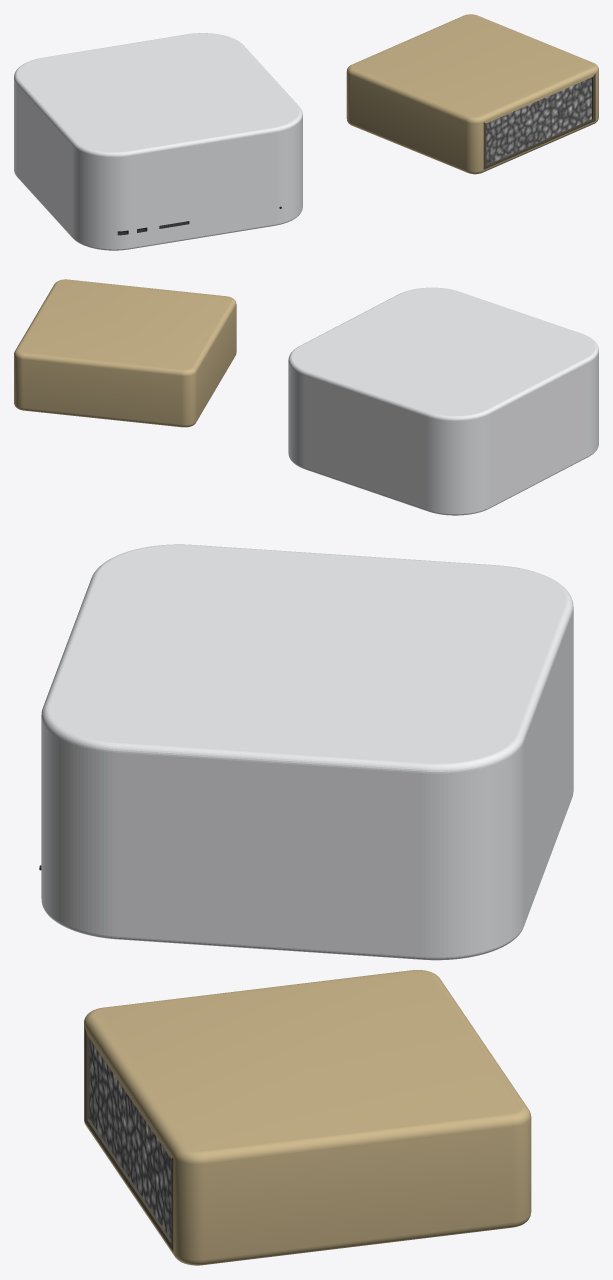
File: oracles.glb
3 renders of one model, top to bottom at view 1: azimuth 30°, elevation 25°; view 2: azimuth 150°, elevation 25°; view 3: azimuth 270°, elevation 25°, orthographic. The views are drawn at different scales.
Parts seen in each view (by area): view 1: mac-studio, dgx-spark, dgx-spark-foam; view 2: mac-studio, dgx-spark; view 3: mac-studio, dgx-spark, dgx-spark-foam.
Part boxes in pixels (x1,y1,x2,y2): mac-studio: (14, 33, 302, 250); dgx-spark: (346, 14, 598, 174); dgx-spark-foam: (486, 77, 591, 164); mac-studio: (288, 287, 598, 515); dgx-spark: (14, 279, 236, 427); mac-studio: (41, 544, 573, 960); dgx-spark: (84, 970, 531, 1265); dgx-spark-foam: (89, 1039, 171, 1238).
Size of the model in its own units: 0.4914 by 0.095 by 0.2158.
9 materials, 1 textured.
